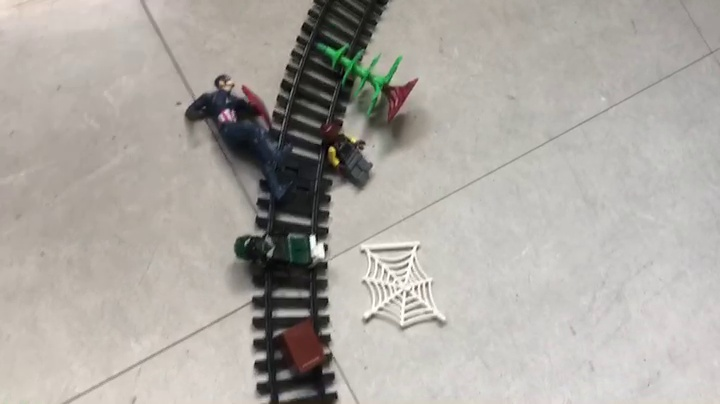box: (275, 318, 328, 383)
people: (186, 73, 299, 201), (234, 232, 327, 277), (316, 123, 374, 185)
tree: (315, 40, 420, 126)
web: (357, 244, 449, 329)
